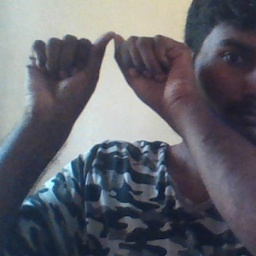A: (24, 29, 201, 115)
